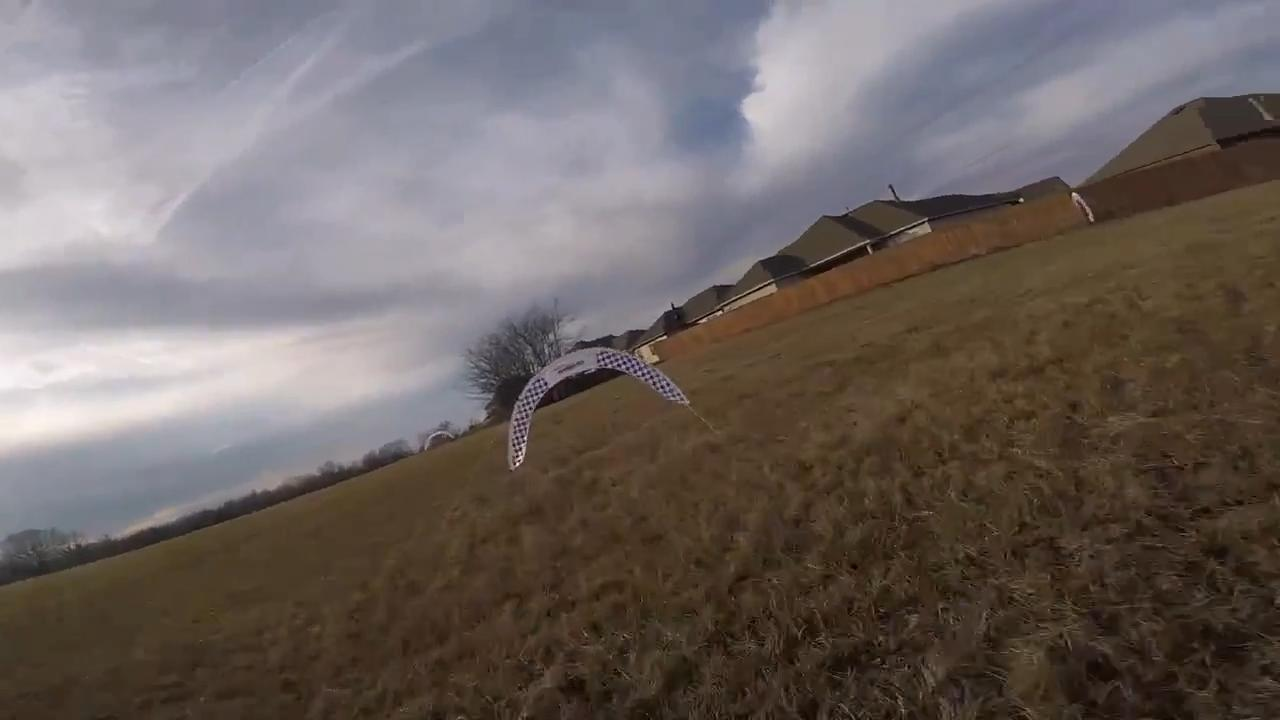gate: (503, 345, 691, 477)
